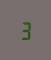three: (19, 20, 30, 40)
